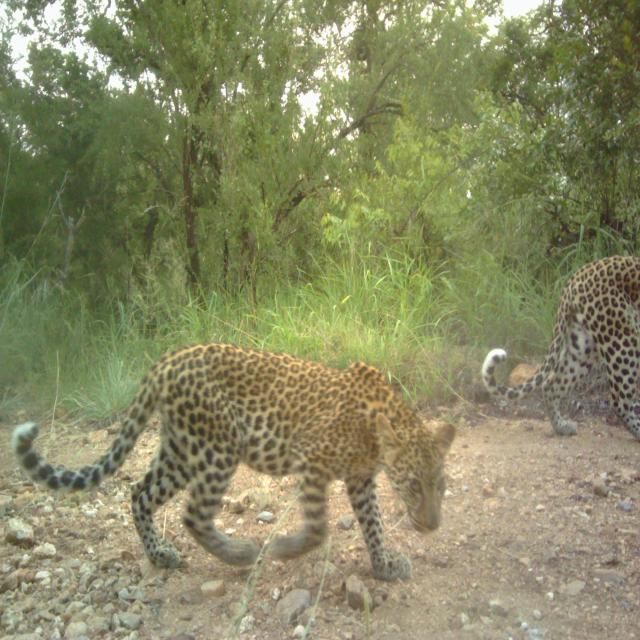Leopard: (13, 324, 466, 590)
